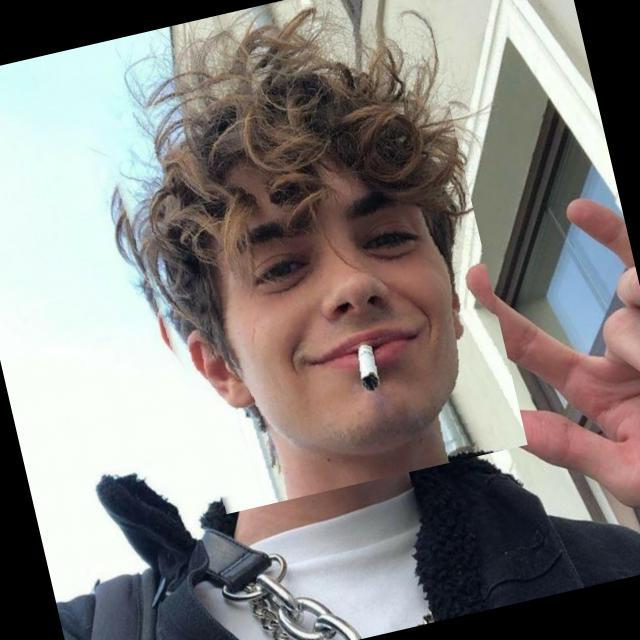cigarette: (294, 311, 374, 403)
